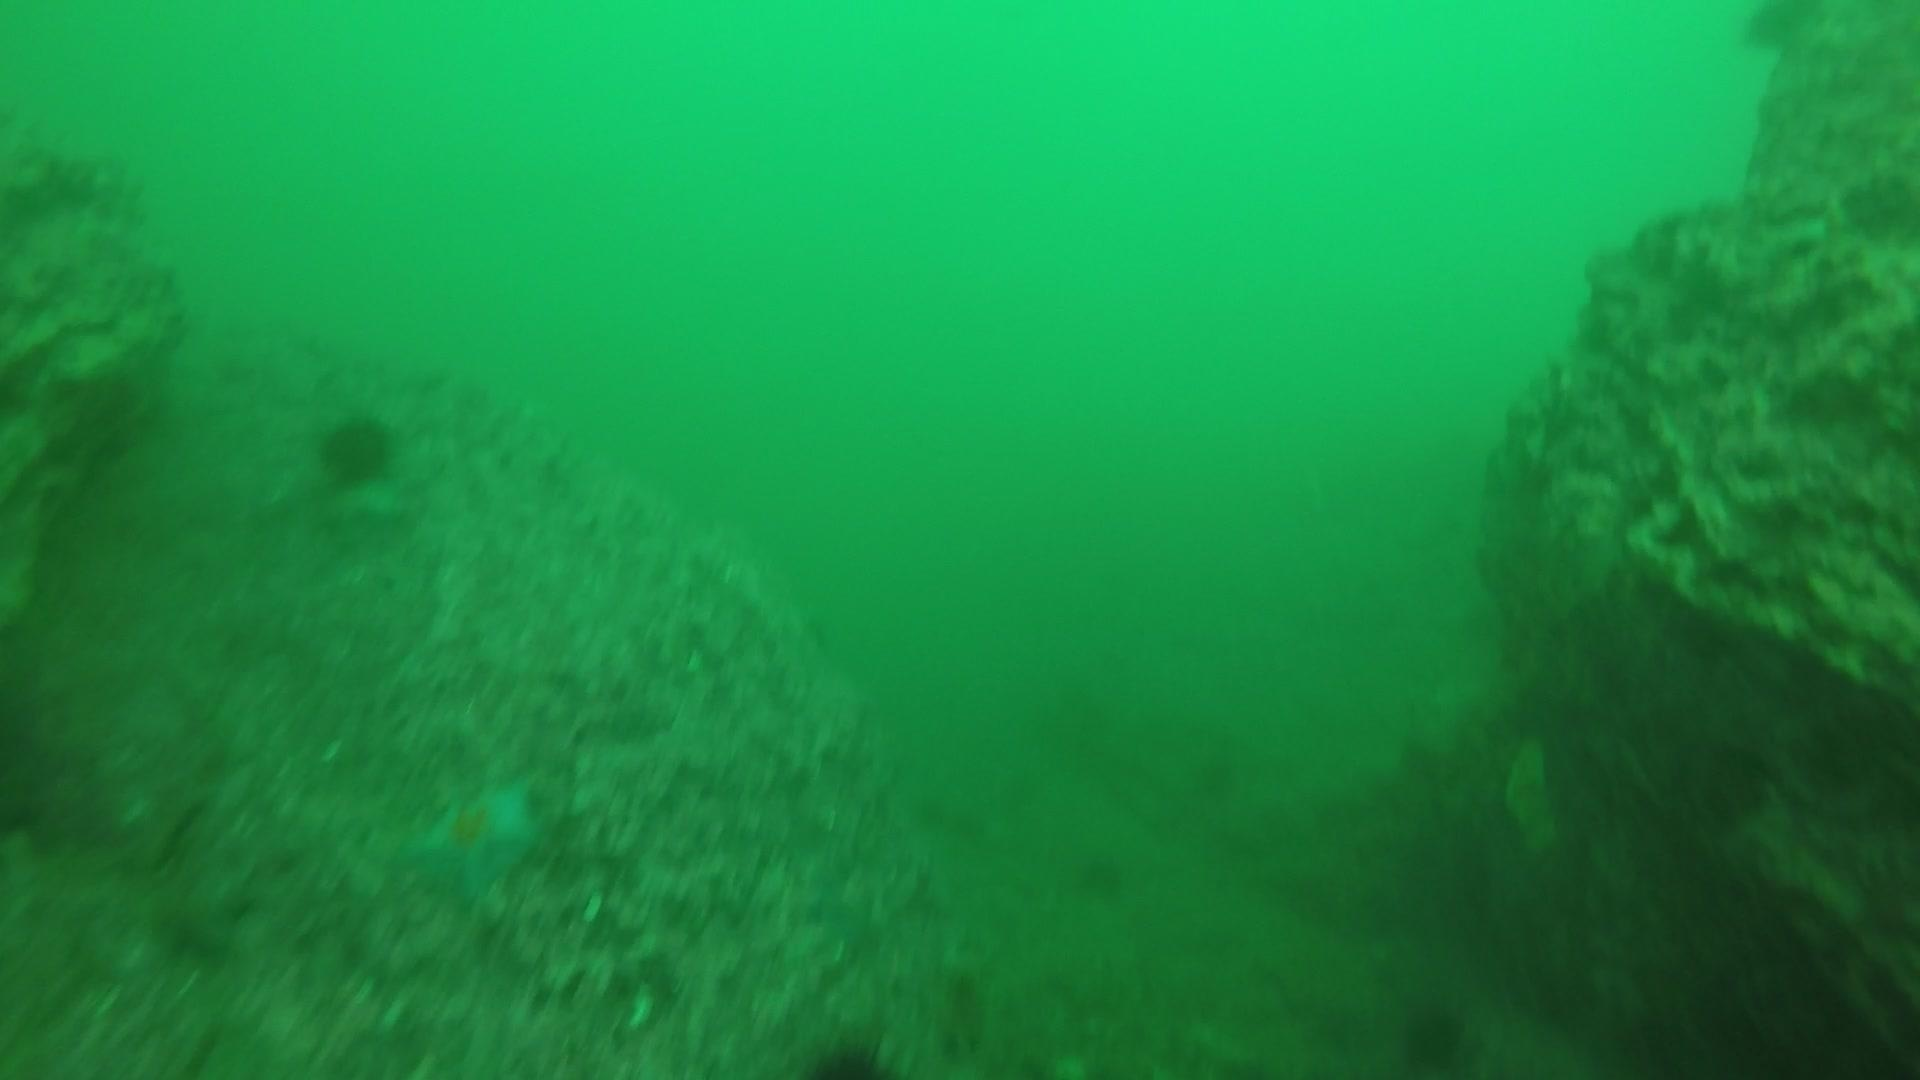echinus: (311, 407, 402, 493), (1393, 997, 1476, 1073), (798, 1027, 902, 1079), (1069, 845, 1131, 903)
starfish: (400, 770, 549, 911)
